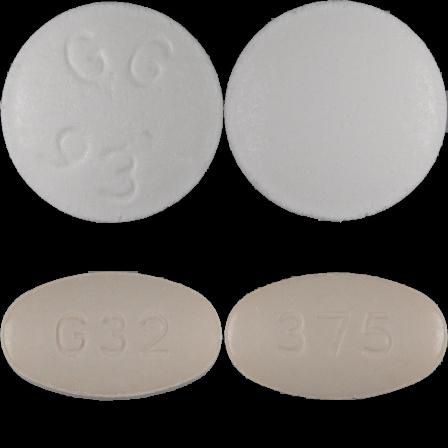49999-046: (0, 0, 224, 224)
